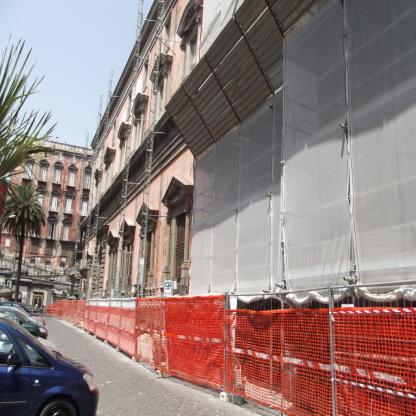Car: (1, 313, 87, 412), (1, 309, 49, 338), (1, 307, 48, 326), (1, 303, 40, 318)
